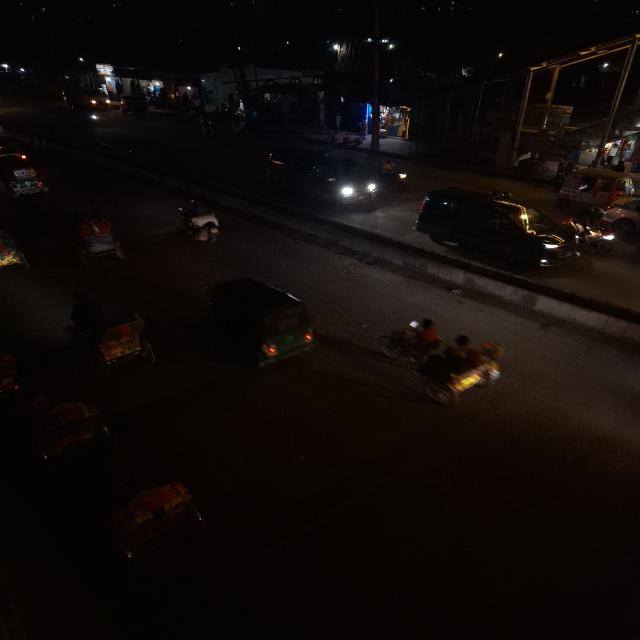car: (413, 185, 586, 274), (269, 149, 378, 204)
cng: (200, 272, 325, 374), (0, 157, 53, 205)
motorcycle: (175, 200, 228, 253)
rickshaw: (373, 312, 527, 414), (70, 295, 155, 379), (69, 212, 119, 271)
